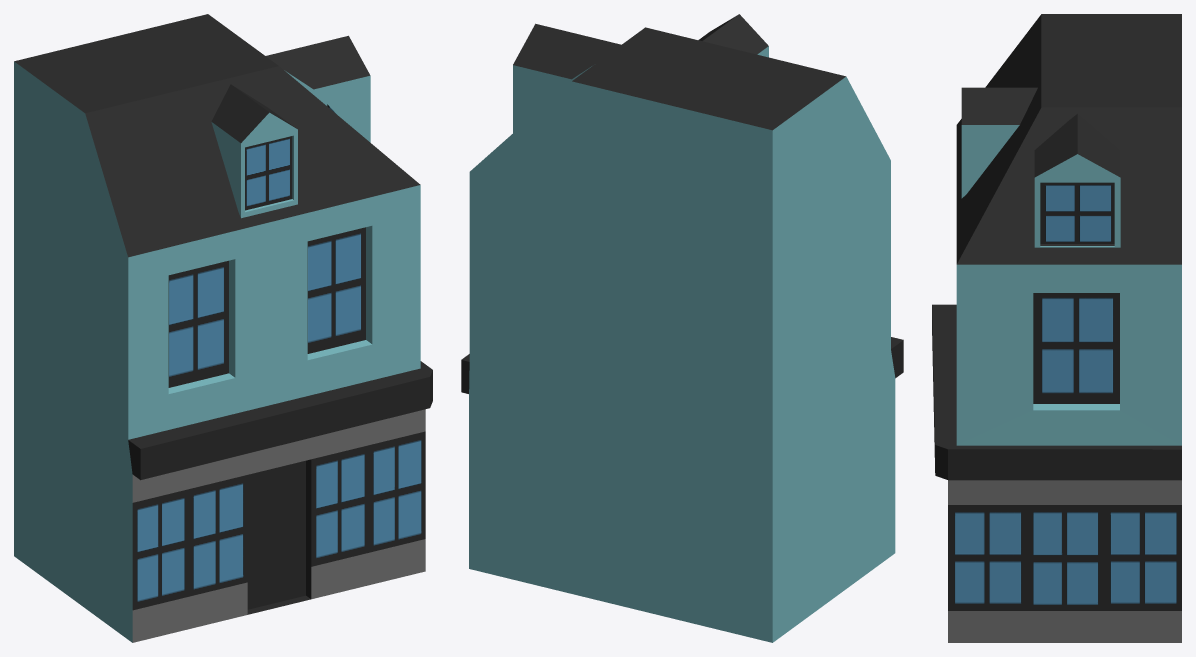
Rendered from ShopBlue.obj.
3 renders of one model, left to right at view 1: azimuth 30°, elevation 25°; view 2: azimuth 150°, elevation 25°; view 3: azimuth 270°, elevation 25°, orthographic. The views are drawn at different scales.
Parts seen in each view (by area): view 1: SklepikNiebieski; view 2: SklepikNiebieski; view 3: SklepikNiebieski.
Part boxes in pixels (bbox=[...]): SklepikNiebieski: bbox=[14, 14, 432, 642]; SklepikNiebieski: bbox=[461, 14, 903, 642]; SklepikNiebieski: bbox=[932, 14, 1181, 642].
Bounding box in the file's own units: 5.13 × 8.07 × 3.74.
